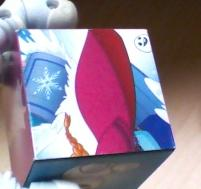Red1: (16, 29, 175, 158)
